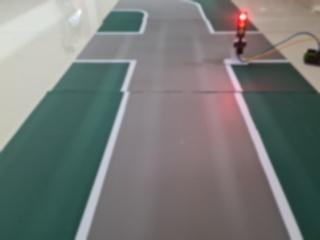red: (231, 8, 253, 52)
